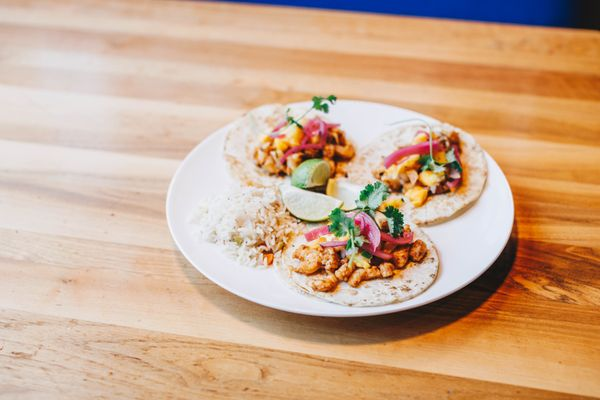curry: (0, 2, 599, 391)
